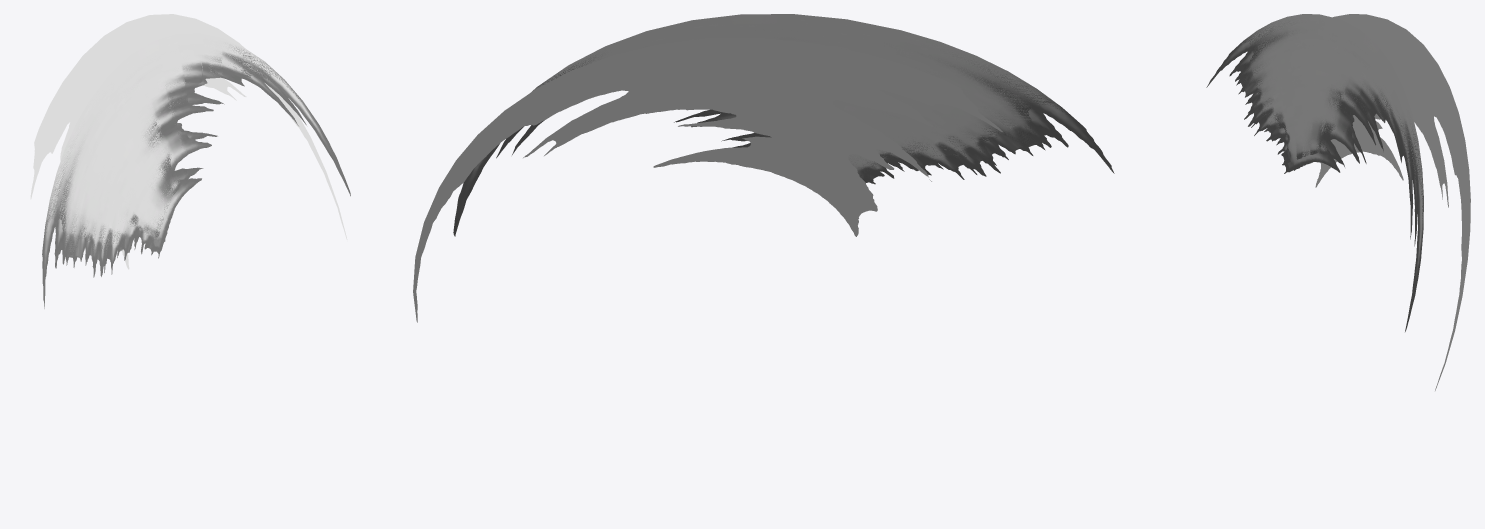
Rendered from fx_cookie0002_front_skill01.fbx.
The picture shows the model from 3 angles, left to right: view 1: azimuth 30°, elevation 25°; view 2: azimuth 150°, elevation 25°; view 3: azimuth 270°, elevation 25°; orthographic projection. The views are drawn at different scales.
Visible parts, largest first — view 1: L_scratch, L_scratch2; view 2: L_scratch2, L_scratch; view 3: L_scratch, L_scratch2.
Boxes of the visible parts, x1,y1,x2,y2 form: L_scratch: (42,33,350,308); L_scratch2: (30,14,347,269); L_scratch2: (413,38,1002,322); L_scratch: (453,14,1114,236); L_scratch: (1206,14,1423,331); L_scratch2: (1315,14,1470,390).
Size of the model in its own units: 316 by 313 by 200.
